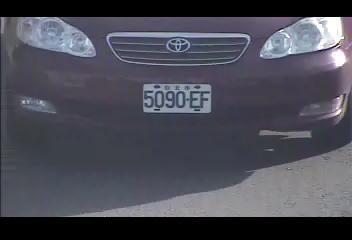plate: (141, 80, 213, 115)
